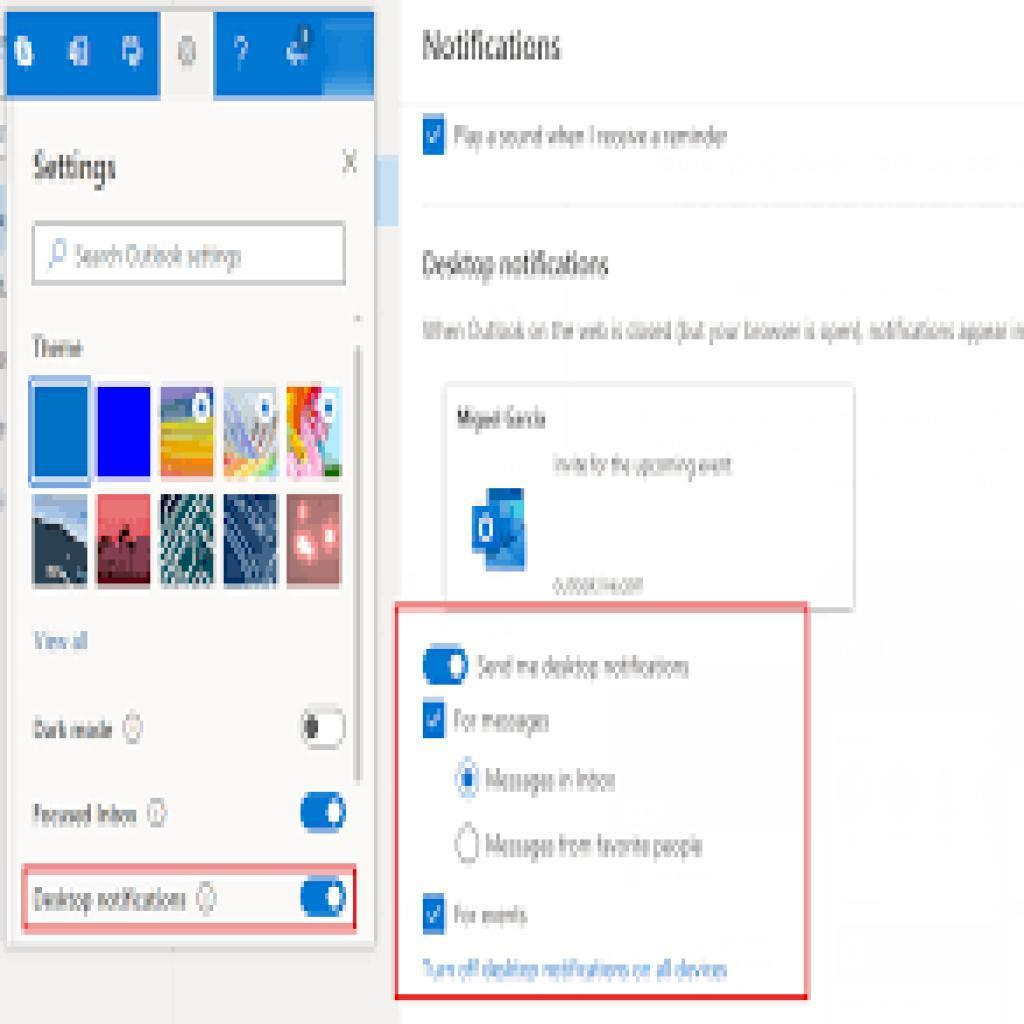checkbox: (421, 889, 450, 936), (419, 116, 446, 163), (422, 701, 449, 740)
input: (33, 219, 345, 285)
radio: (450, 814, 482, 876), (449, 752, 485, 803)
switch: (298, 866, 347, 928), (300, 705, 353, 754), (423, 643, 472, 689), (297, 792, 348, 835)
